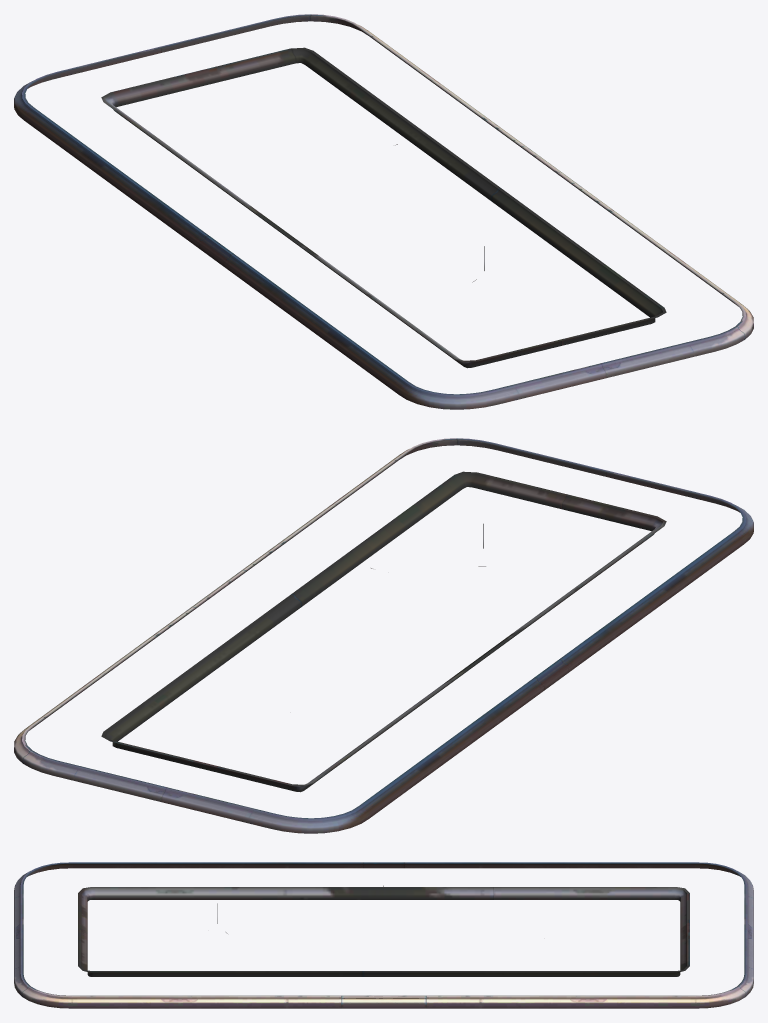
File: pref_sm_garden_props_vray_008a_lv0.fbx
3 views of the same model, one above another, from view 1: azimuth 30°, elevation 25°; view 2: azimuth 150°, elevation 25°; view 3: azimuth 270°, elevation 25° (orthographic). The views are drawn at different scales.
Visible parts, largest first — view 1: sm_garden_props_vray_008a_lv0; view 2: sm_garden_props_vray_008a_lv0; view 3: sm_garden_props_vray_008a_lv0.
Boxes of the visible parts, bbox=[...] form: sm_garden_props_vray_008a_lv0: bbox=[14, 14, 753, 409]; sm_garden_props_vray_008a_lv0: bbox=[14, 438, 753, 833]; sm_garden_props_vray_008a_lv0: bbox=[14, 862, 753, 1008].
Size of the model in its own units: 8.9 by 2.02 by 19.86.
